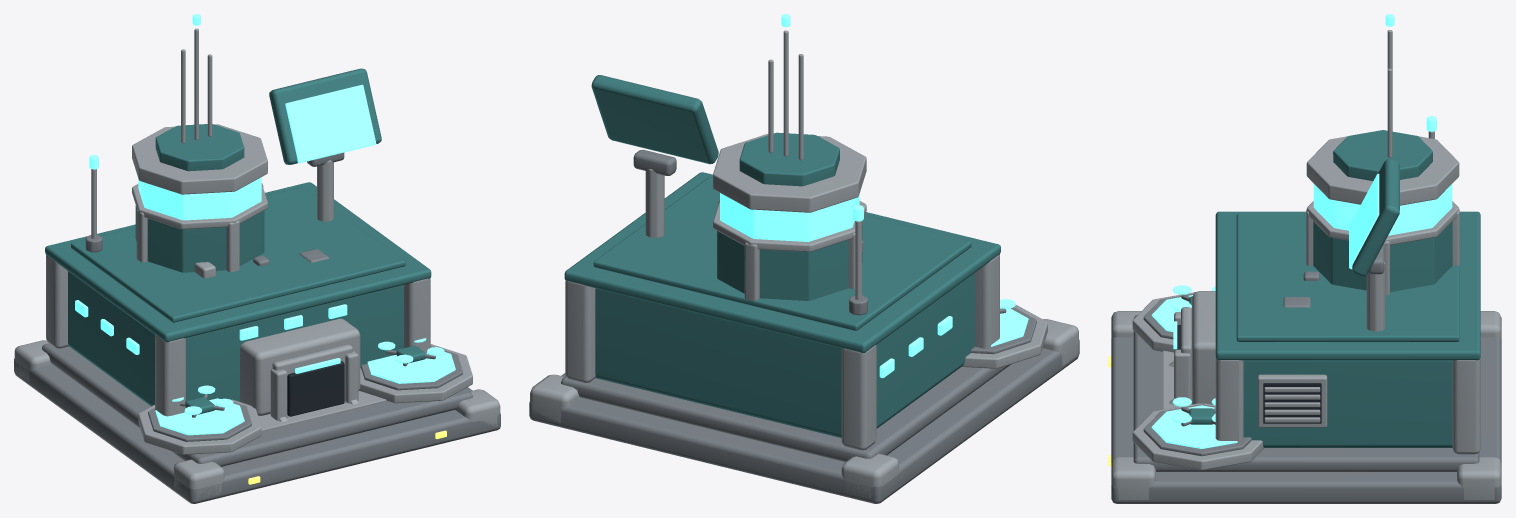
Rendered from meridian-unmanned-systems-center.glb.
The picture shows the model from 3 angles, left to right: view 1: azimuth 30°, elevation 25°; view 2: azimuth 150°, elevation 25°; view 3: azimuth 270°, elevation 25°; orthographic projection. The views are drawn at different scales.
Parts seen in each view (by area): view 1: UnmannedSystemsCenterBodyMesh; view 2: UnmannedSystemsCenterBodyMesh; view 3: UnmannedSystemsCenterBodyMesh.
Part boxes in pixels (x1,y1,x2,y2): UnmannedSystemsCenterBodyMesh: (14,14,500,503); UnmannedSystemsCenterBodyMesh: (529,14,1079,503); UnmannedSystemsCenterBodyMesh: (1108,14,1501,503).
Bounding box in the file's own units: 2.89 × 3.16 × 2.82.
